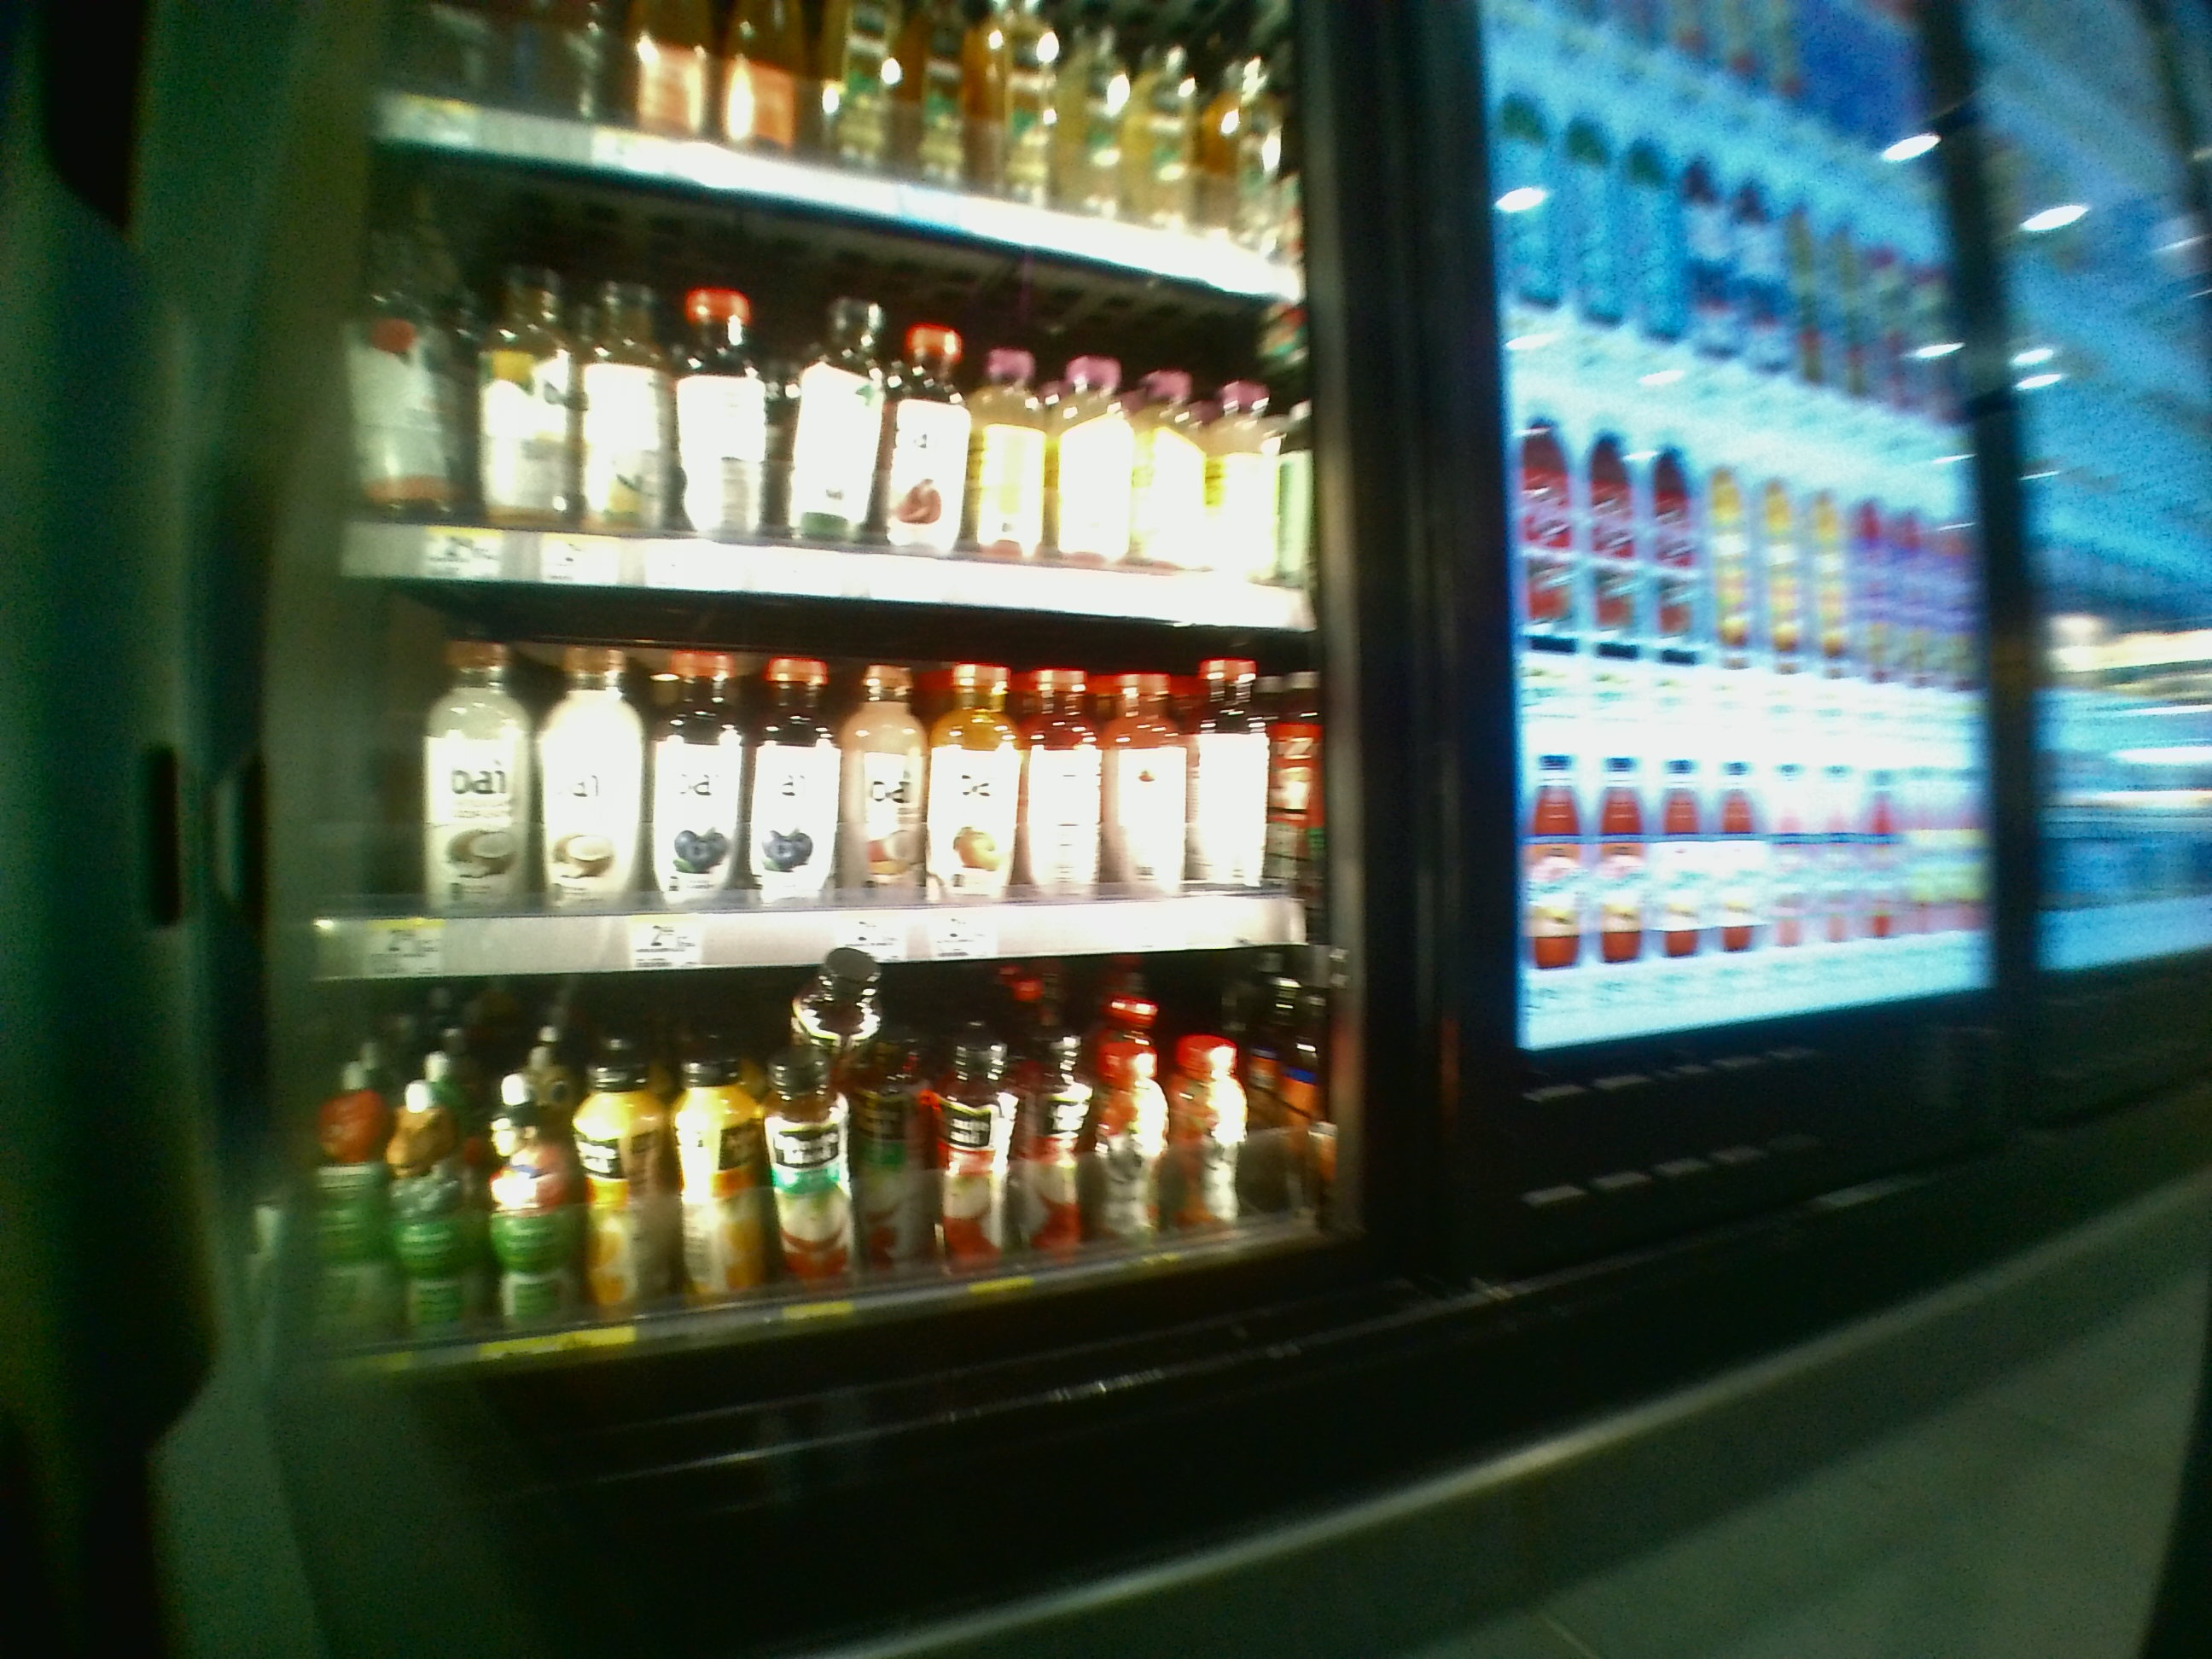shelf: (334, 145, 1318, 575), (314, 592, 1325, 979), (310, 990, 1327, 1349)
